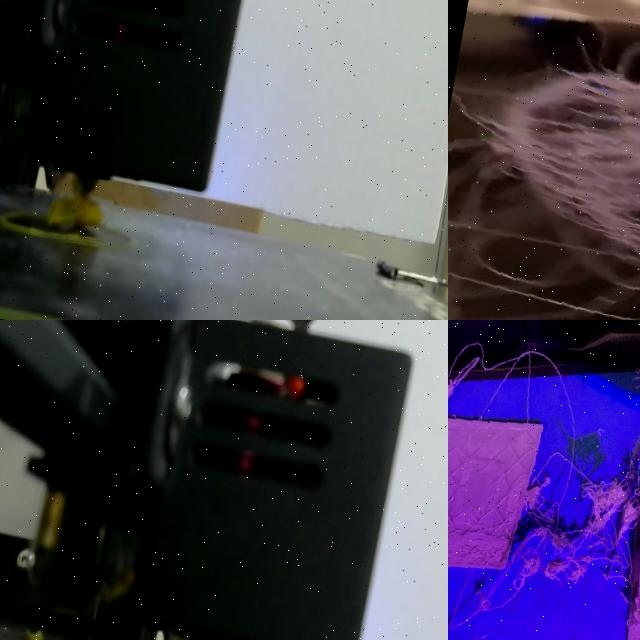spaghetti: (448, 0, 640, 320), (448, 320, 640, 640), (45, 171, 118, 249)
